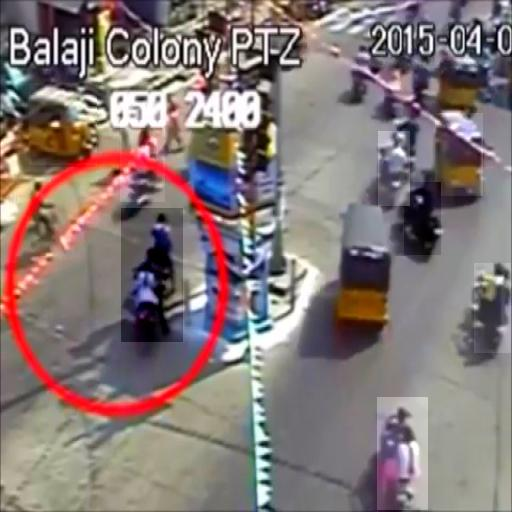小汽车: (341, 199, 390, 330), (29, 84, 97, 166), (436, 113, 484, 196)
自行车: (377, 397, 428, 510), (120, 120, 165, 202), (474, 263, 511, 353), (404, 182, 441, 255), (378, 131, 410, 206)
自行车撞自行车: (121, 208, 183, 342)
